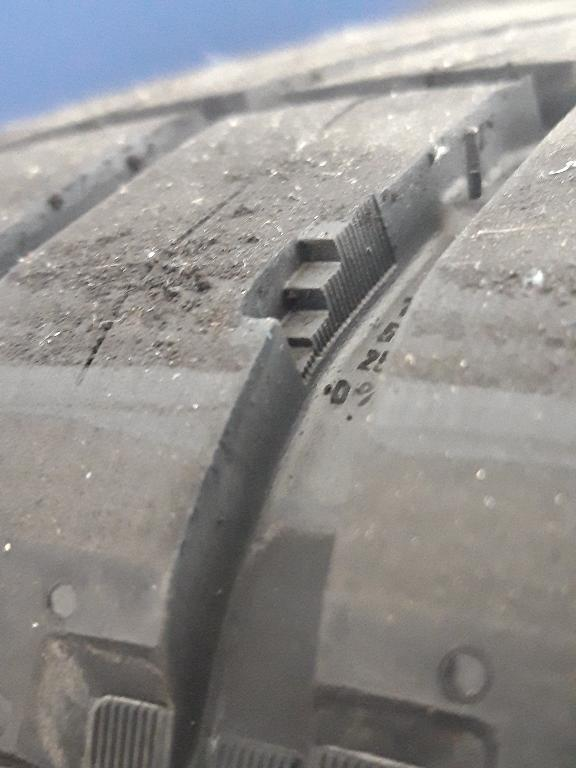temoin:75: (232, 211, 385, 398)
